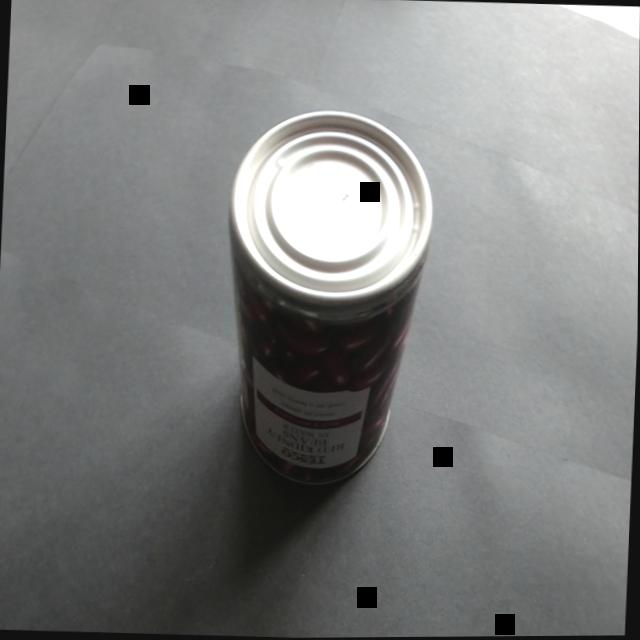Redbeans: (208, 83, 441, 518)
